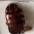cockroach: (5, 2, 26, 34)
